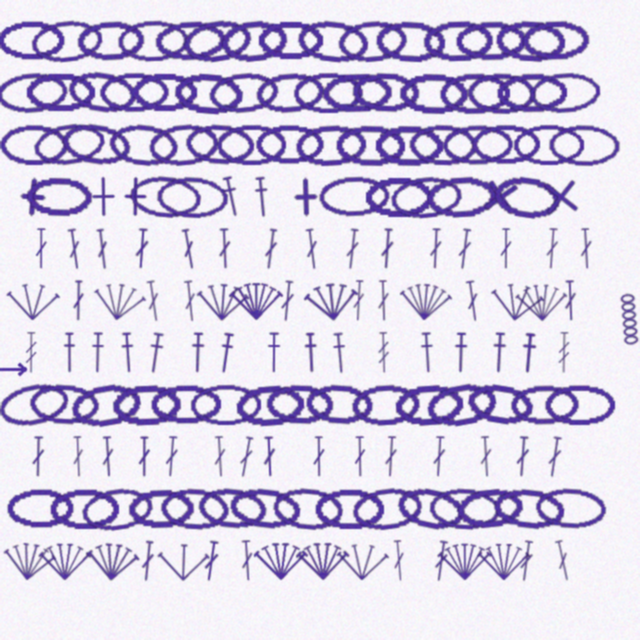chain: (393, 482, 469, 536), (423, 378, 499, 431), (68, 379, 143, 431), (0, 378, 72, 432), (31, 119, 107, 170), (79, 484, 156, 534), (180, 15, 255, 66), (65, 67, 140, 118), (59, 119, 134, 170), (464, 379, 537, 430), (227, 484, 302, 533), (350, 484, 425, 533), (491, 172, 564, 222), (29, 17, 104, 65), (295, 17, 370, 65), (389, 173, 464, 221), (491, 485, 566, 533), (207, 69, 281, 117), (147, 121, 221, 168), (128, 173, 202, 220), (196, 485, 269, 532), (271, 485, 344, 532), (107, 121, 179, 168), (254, 70, 327, 116), (528, 70, 601, 116), (219, 17, 290, 64), (455, 485, 526, 532), (534, 486, 608, 531), (336, 18, 408, 64), (172, 70, 244, 116), (28, 382, 101, 427), (428, 486, 501, 531), (234, 382, 305, 428), (494, 18, 566, 63), (425, 174, 497, 219), (350, 382, 422, 427), (159, 486, 231, 531), (0, 70, 70, 116), (294, 123, 367, 167), (184, 122, 255, 167), (304, 382, 375, 427), (393, 382, 464, 427), (154, 19, 226, 63), (374, 19, 446, 63), (156, 175, 228, 219), (117, 19, 190, 62), (318, 175, 391, 218), (76, 19, 146, 63), (548, 124, 621, 166), (422, 19, 493, 62), (408, 123, 479, 166), (442, 124, 514, 166), (521, 19, 591, 62), (351, 71, 421, 114), (111, 383, 181, 426), (265, 383, 335, 426), (455, 20, 526, 62), (321, 72, 392, 114), (439, 72, 510, 114), (496, 72, 567, 114), (398, 72, 468, 114), (466, 72, 536, 114), (335, 124, 405, 166), (510, 384, 580, 426), (99, 72, 170, 113), (293, 72, 364, 113), (513, 124, 584, 165), (150, 384, 221, 425), (190, 384, 261, 425), (544, 384, 615, 425), (374, 124, 443, 166), (25, 176, 94, 218), (127, 488, 196, 530), (25, 72, 95, 113), (216, 124, 286, 165), (255, 124, 325, 165), (49, 488, 119, 529), (314, 488, 384, 529), (471, 124, 540, 165), (364, 176, 433, 217), (6, 488, 75, 529), (257, 20, 325, 61), (131, 72, 199, 113), (0, 124, 68, 165), (0, 20, 66, 61)
double: (552, 539, 574, 582), (236, 436, 256, 478), (65, 228, 84, 270), (179, 228, 198, 270), (455, 228, 474, 270), (144, 280, 163, 322), (463, 280, 482, 322), (545, 436, 564, 478), (202, 540, 221, 582), (517, 540, 536, 582), (262, 228, 280, 270), (303, 228, 321, 270), (181, 280, 199, 322), (432, 540, 450, 582), (94, 228, 111, 270), (344, 228, 361, 270), (279, 280, 296, 322), (139, 540, 156, 582), (163, 436, 180, 477), (514, 436, 531, 477), (134, 228, 150, 269), (379, 228, 395, 269), (544, 228, 560, 269), (578, 228, 594, 269), (100, 436, 116, 477), (212, 436, 228, 477), (383, 436, 399, 477), (431, 436, 447, 477), (478, 436, 494, 477), (239, 540, 255, 581), (391, 540, 407, 581), (217, 228, 232, 269), (428, 228, 443, 269), (351, 280, 366, 321), (376, 280, 391, 321), (563, 280, 578, 321), (262, 436, 277, 477), (34, 228, 48, 269), (499, 228, 513, 269), (31, 436, 45, 477), (71, 436, 85, 477), (137, 436, 151, 477), (312, 436, 326, 477), (353, 436, 367, 477), (72, 280, 85, 321)
enseble_chain: (619, 293, 640, 346)
fan: (90, 276, 149, 325), (487, 277, 547, 325), (0, 537, 59, 584), (303, 278, 360, 324), (84, 538, 141, 584), (397, 278, 454, 323), (195, 279, 251, 323), (5, 279, 61, 322), (335, 539, 390, 582), (514, 280, 569, 322), (156, 540, 211, 582), (437, 540, 492, 581), (229, 280, 283, 321), (38, 540, 92, 581), (254, 540, 308, 581), (296, 540, 350, 581), (477, 540, 531, 581)
half_double: (219, 175, 243, 218), (145, 332, 166, 374), (216, 332, 236, 374), (252, 176, 271, 218), (330, 332, 349, 374), (519, 332, 538, 374), (418, 332, 436, 373), (490, 332, 508, 373), (89, 332, 106, 373), (119, 332, 136, 373), (189, 332, 206, 373), (266, 332, 282, 373), (303, 332, 319, 373), (453, 332, 469, 373), (62, 332, 77, 373)
noise: (0, 361, 29, 377)
single: (477, 173, 524, 220), (538, 174, 583, 219), (11, 175, 55, 219), (285, 176, 327, 218), (83, 176, 124, 217), (115, 176, 156, 217)
treble: (376, 332, 391, 373), (24, 332, 38, 373), (557, 332, 571, 373)
